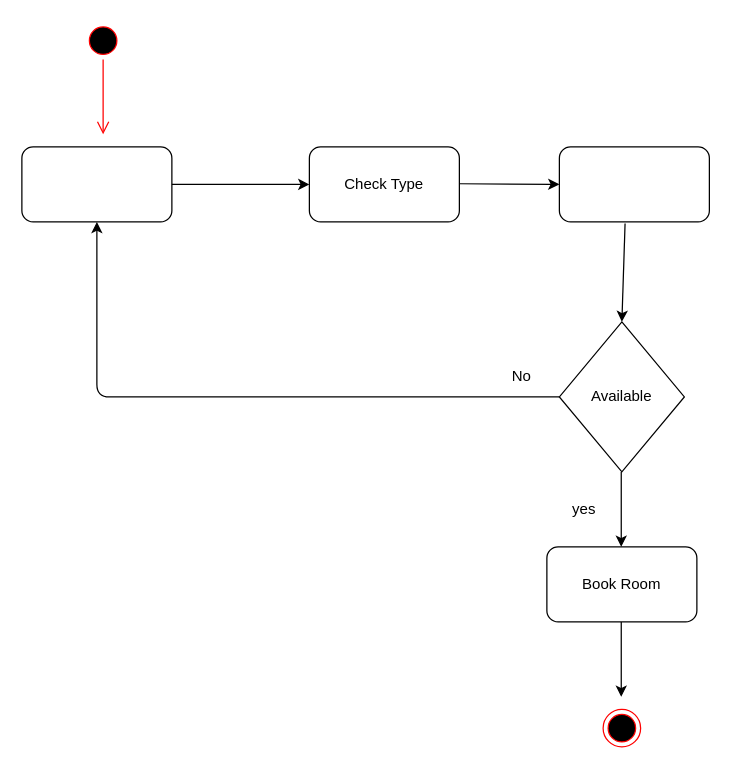
Some shapes in this 731 by 769 pixel diagram are drawn without their labels. Here are the shapes that lost their labels. From the top down, the centre of each, then its label:
At pixel 96 184: "Search".
At pixel 633 184: "Check Status".
